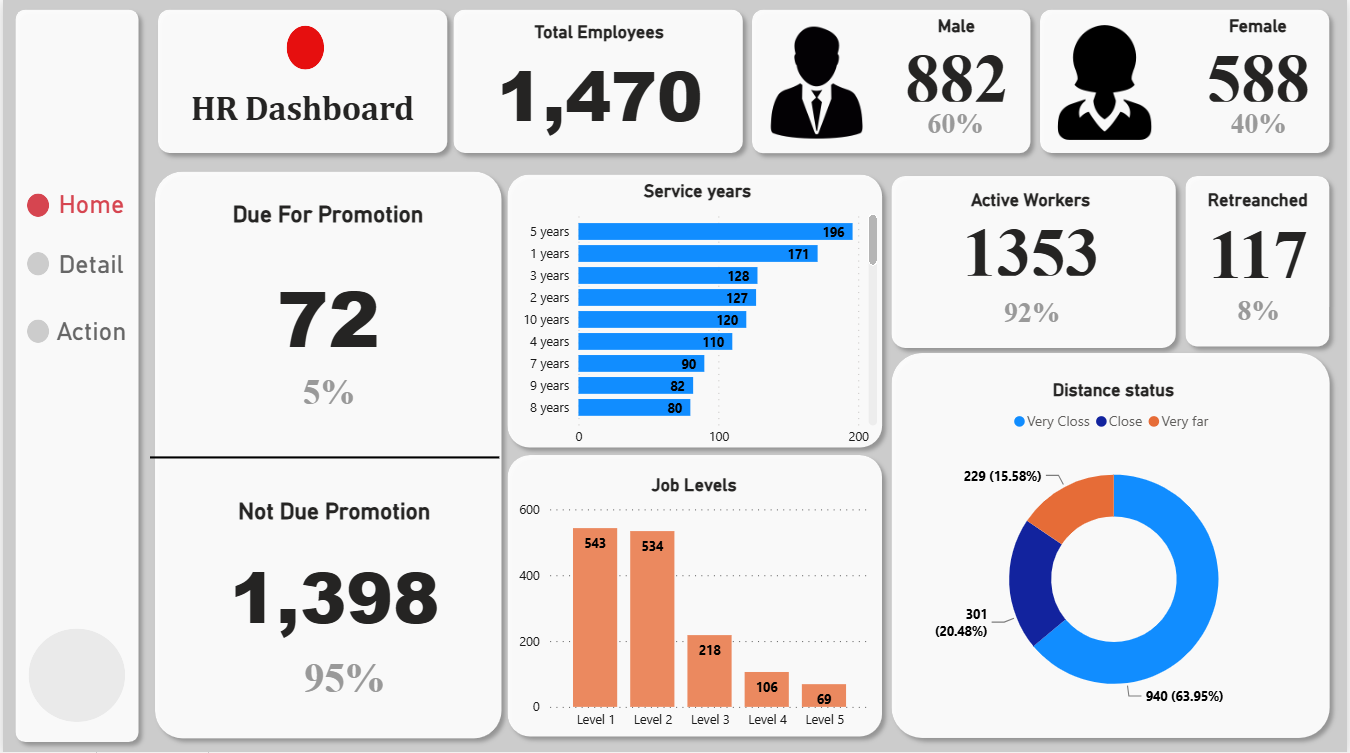

Layout of this report page (visuals, bound fields, positions):
{"tool":"powerbi","page":{"name":"Home","canvas":[1280,720],"ordinal":0},"visuals":[{"type":"shape","box":[2.8,0,135.3,715.8],"z":0},{"type":"shape","box":[979.3,0,293.6,154.6],"z":1000},{"type":"shape","box":[139,0,293.6,154.6],"z":2000},{"type":"shape","box":[420.1,0,293.6,154.6],"z":3000},{"type":"shape","box":[704.5,0,283.2,155],"z":4000},{"type":"shape","box":[135.3,153.6,348,558],"z":5000},{"type":"shape","box":[471.7,157.7,374.8,278],"z":6000},{"type":"shape","box":[472,424.1,374.8,286],"z":7000},{"type":"shape","box":[836.9,159.2,288.8,181.8],"z":8000},{"type":"shape","box":[1117.3,159.2,155,180.4],"z":9000},{"type":"shape","box":[836.9,326.9,435.4,384.7],"z":10000},{"type":"textbox","box":[157.7,78.1,256.1,53.1],"z":11000},{"type":"shape","box":[270.2,25,35.9,42.2],"z":12000},{"type":"card","title":"Total Employees","fields":{"Values":["All Measures.Total Emp"]},"box":[449.8,20.3,235.8,114],"z":13000},{"type":"card","title":"Male","fields":{"Values":["All Measures.Male"]},"box":[846.5,14.1,121.8,87.5],"z":14000},{"type":"card","title":"Male","fields":{"Values":["All Measures.% Male"]},"box":[860.6,78.1,93.7,76.5],"z":15000},{"type":"card","title":"Female","fields":{"Values":["All Measures.Female"]},"box":[1133.9,14.1,121.8,87.5],"z":16000},{"type":"card","title":"Male","fields":{"Values":["All Measures.% Female"]},"box":[1147.9,78.1,93.7,76.5],"z":17000},{"type":"image","box":[713.8,20.3,121.8,117.1],"z":18000},{"type":"image","box":[987.7,18.3,124,119.8],"z":19000},{"type":"card","title":"Due For Promotion","fields":{"Values":["All Measures.Due for promotion"]},"box":[179.6,192.1,259.3,187.4],"z":20000},{"type":"card","title":"Not Due Promotion","fields":{"Values":["All Measures.Not due"]},"box":[199.9,474.8,231.1,154.6],"z":21000},{"type":"card","title":"Due For Promotion","fields":{"Values":["All Measures.% Not due"]},"box":[267.1,593.5,115.6,101.5],"z":22000},{"type":"shape","box":[140.6,285.8,332.7,299.9],"z":23000},{"type":"barChart","title":"Service years","fields":{"Category":["HR Analytics Data (2).service year"],"Y":["All Measures.Total Emp"]},"box":[485.7,171.8,351.4,262.4],"z":24000},{"type":"columnChart","title":"Job Levels","fields":{"Category":["HR Analytics Data (2).Job Levels"],"Y":["All Measures.Total Emp"]},"box":[485.7,451.4,345.2,251.5],"z":25000},{"type":"card","title":"Active Workers","fields":{"Values":["All Measures.On services"]},"box":[860.6,179.6,237.4,87.5],"z":26000},{"type":"card","title":"Retreanched","fields":{"Values":["All Measures.Will be retreanched"]},"box":[1119.8,179.6,149.9,92.1],"z":27000},{"type":"donutChart","title":" Distance status","fields":{"Category":["HR Analytics Data (2).Distance status"],"Y":["All Measures.Total Emp"]},"box":[860.6,360.8,395.1,331.1],"z":28000},{"type":"card","fields":{"Values":["All Measures.% Due for promotion"]},"box":[259.3,335.8,103.1,71.8],"z":29000},{"type":"card","title":"Male","fields":{"Values":["All Measures.% On services"]},"box":[932.4,259.3,93.7,76.5],"z":30000},{"type":"card","title":"Male","fields":{"Values":["All Measures.% Will be retreanched"]},"box":[1147.9,257.7,93.7,76.5],"z":31000},{"type":"shape","box":[23.4,184.7,21.1,22.4],"z":32000},{"type":"shape","box":[23.4,240.1,21.1,22.4],"z":33000},{"type":"shape","box":[23.4,304.7,21.1,22.4],"z":34000},{"type":"actionButton","title":"Home","box":[14.3,180.4,140.1,30.2],"z":35000},{"type":"actionButton","title":"Action","box":[14.1,301.5,139.5,56.4],"z":36000},{"type":"actionButton","title":"Detail","box":[14.1,236.7,139.5,57.8],"z":37000},{"type":"shape","box":[25,598.2,92.1,89],"z":38000}]}

Visuals, with their boxes in screenshot pixels (x1, y1, x2, y2), scaled from the page's 1280x720 canvas onto the 1350x753 screenshot:
shape: [left=3, top=0, right=146, bottom=749]
shape: [left=1033, top=0, right=1343, bottom=162]
shape: [left=147, top=0, right=456, bottom=162]
shape: [left=443, top=0, right=753, bottom=162]
shape: [left=743, top=0, right=1042, bottom=162]
shape: [left=143, top=161, right=510, bottom=744]
shape: [left=497, top=165, right=893, bottom=456]
shape: [left=498, top=444, right=893, bottom=743]
shape: [left=883, top=166, right=1187, bottom=357]
shape: [left=1178, top=166, right=1342, bottom=355]
shape: [left=883, top=342, right=1342, bottom=744]
textbox: [left=166, top=82, right=436, bottom=137]
shape: [left=285, top=26, right=323, bottom=70]
"Total Employees" card: [left=474, top=21, right=723, bottom=140]
"Male" card: [left=893, top=15, right=1021, bottom=106]
"Male" card: [left=908, top=82, right=1006, bottom=162]
"Female" card: [left=1196, top=15, right=1324, bottom=106]
"Male" card: [left=1211, top=82, right=1310, bottom=162]
image: [left=753, top=21, right=881, bottom=144]
image: [left=1042, top=19, right=1172, bottom=144]
"Due For Promotion" card: [left=189, top=201, right=463, bottom=397]
"Not Due Promotion" card: [left=211, top=497, right=455, bottom=658]
"Due For Promotion" card: [left=282, top=621, right=404, bottom=727]
shape: [left=148, top=299, right=499, bottom=613]
"Service years" barChart: [left=512, top=180, right=883, bottom=454]
"Job Levels" columnChart: [left=512, top=472, right=876, bottom=735]
"Active Workers" card: [left=908, top=188, right=1158, bottom=279]
"Retreanched" card: [left=1181, top=188, right=1339, bottom=284]
" Distance status" donutChart: [left=908, top=377, right=1324, bottom=724]
card - All Measures.% Due for promotion: [left=273, top=351, right=382, bottom=426]
"Male" card: [left=983, top=271, right=1082, bottom=351]
"Male" card: [left=1211, top=270, right=1310, bottom=350]
shape: [left=25, top=193, right=47, bottom=217]
shape: [left=25, top=251, right=47, bottom=275]
shape: [left=25, top=319, right=47, bottom=342]
"Home" actionButton: [left=15, top=189, right=163, bottom=220]
"Action" actionButton: [left=15, top=315, right=162, bottom=374]
"Detail" actionButton: [left=15, top=248, right=162, bottom=308]
shape: [left=26, top=626, right=124, bottom=719]
